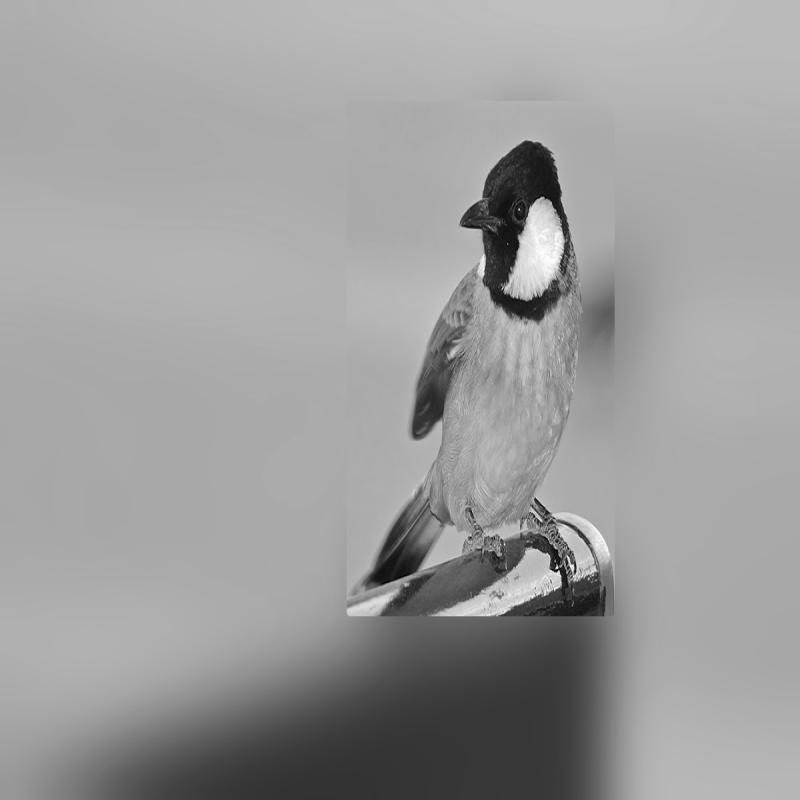white-eared bulbul: (350, 131, 617, 614)
